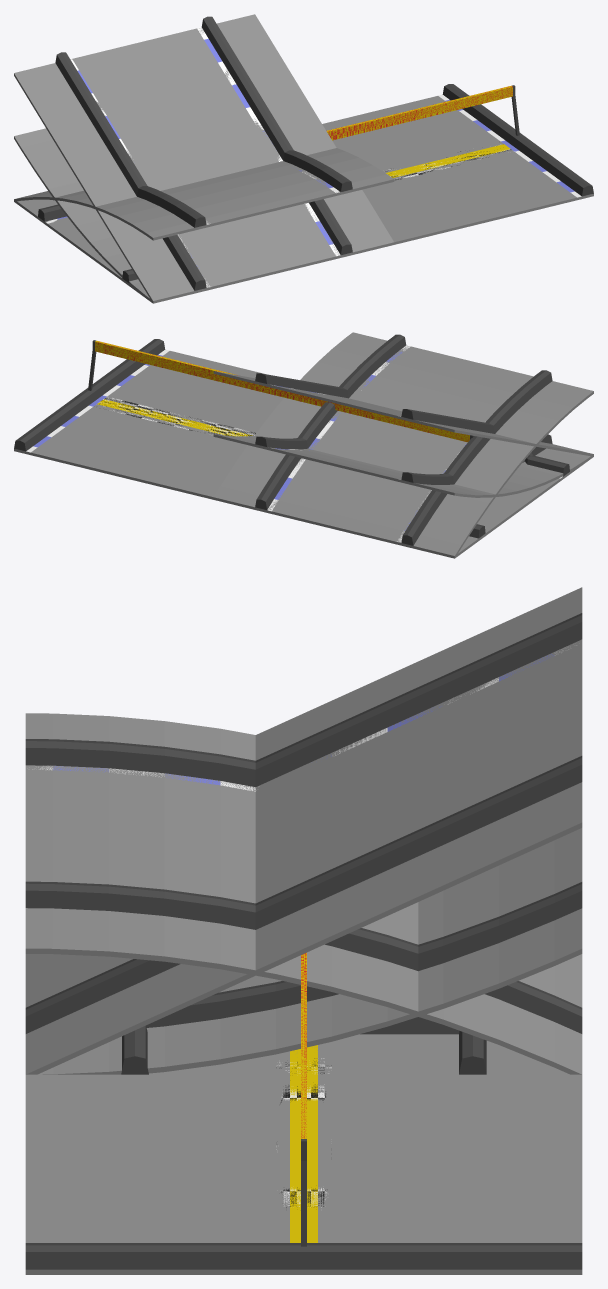
File: road_wide.glb
3 renders of one model, top to bottom at view 1: azimuth 30°, elevation 25°; view 2: azimuth 150°, elevation 25°; view 3: azimuth 270°, elevation 25°, orthographic. The views are drawn at different scales.
Parts seen in each view (by area): view 1: SlopeRightWide, SlopeLeftWide, CheckpointWide, SlopeDownRightWide, SlopeDownLeftWide, FinishWide, SlopeUpRightWide, InnerCornerWide, StraightWide, ToWideDouble, ToWideDiagonal, ToWideRight (+1 smaller); view 2: SlopeDownRightWide, CheckpointWide, SlopeDownLeftWide, FinishWide, SlopeUpRightWide, SlopeRightWide, SlopeUpLeftWide, SlopeLeftWide, ToWideMiddle, ToWideLeft, ToWideRight, StraightWide (+1 smaller); view 3: CheckpointWide, SlopeLeftWide, SlopeDownLeftWide, SlopeRightWide, SlopeDownRightWide, FinishWide, SlopeUpLeftWide, SlopeUpRightWide, InnerCornerWide, OuterCornerWide, ToWideRight.
Boxes of the visible parts, x1,y1,x2,y2 form: SlopeRightWide: [14, 16, 351, 301]; SlopeLeftWide: [55, 14, 393, 290]; CheckpointWide: [211, 84, 593, 289]; SlopeDownRightWide: [14, 150, 352, 240]; SlopeDownLeftWide: [137, 148, 394, 229]; FinishWide: [326, 86, 526, 218]; SlopeUpRightWide: [14, 128, 151, 301]; InnerCornerWide: [14, 201, 349, 303]; StraightWide: [14, 199, 352, 303]; ToWideDouble: [38, 204, 127, 284]; ToWideDiagonal: [41, 221, 152, 302]; ToWideRight: [17, 199, 128, 285]; SlopeDownRightWide: [256, 334, 593, 555]; CheckpointWide: [14, 339, 473, 499]; SlopeDownLeftWide: [214, 332, 552, 545]; FinishWide: [38, 341, 469, 490]; SlopeUpRightWide: [255, 436, 593, 497]; SlopeRightWide: [255, 373, 593, 456]; SlopeUpLeftWide: [213, 434, 545, 484]; SlopeLeftWide: [213, 371, 552, 443]; ToWideMiddle: [385, 452, 569, 557]; ToWideLeft: [213, 497, 413, 548]; ToWideRight: [255, 473, 569, 558]; StraightWide: [398, 454, 593, 558]; CheckpointWide: [25, 953, 582, 1274]; SlopeLeftWide: [25, 613, 582, 1074]; SlopeDownLeftWide: [25, 739, 582, 1074]; SlopeRightWide: [25, 587, 582, 1033]; SlopeDownRightWide: [25, 713, 582, 1033]; FinishWide: [136, 953, 554, 1242]; SlopeUpLeftWide: [38, 831, 582, 1074]; SlopeUpRightWide: [146, 828, 582, 1027]; InnerCornerWide: [121, 1025, 487, 1074]; OuterCornerWide: [459, 1031, 486, 1074]; ToWideRight: [360, 1017, 459, 1034].
Bounding box in the file's own units: 36.57 × 10.94 × 20.
